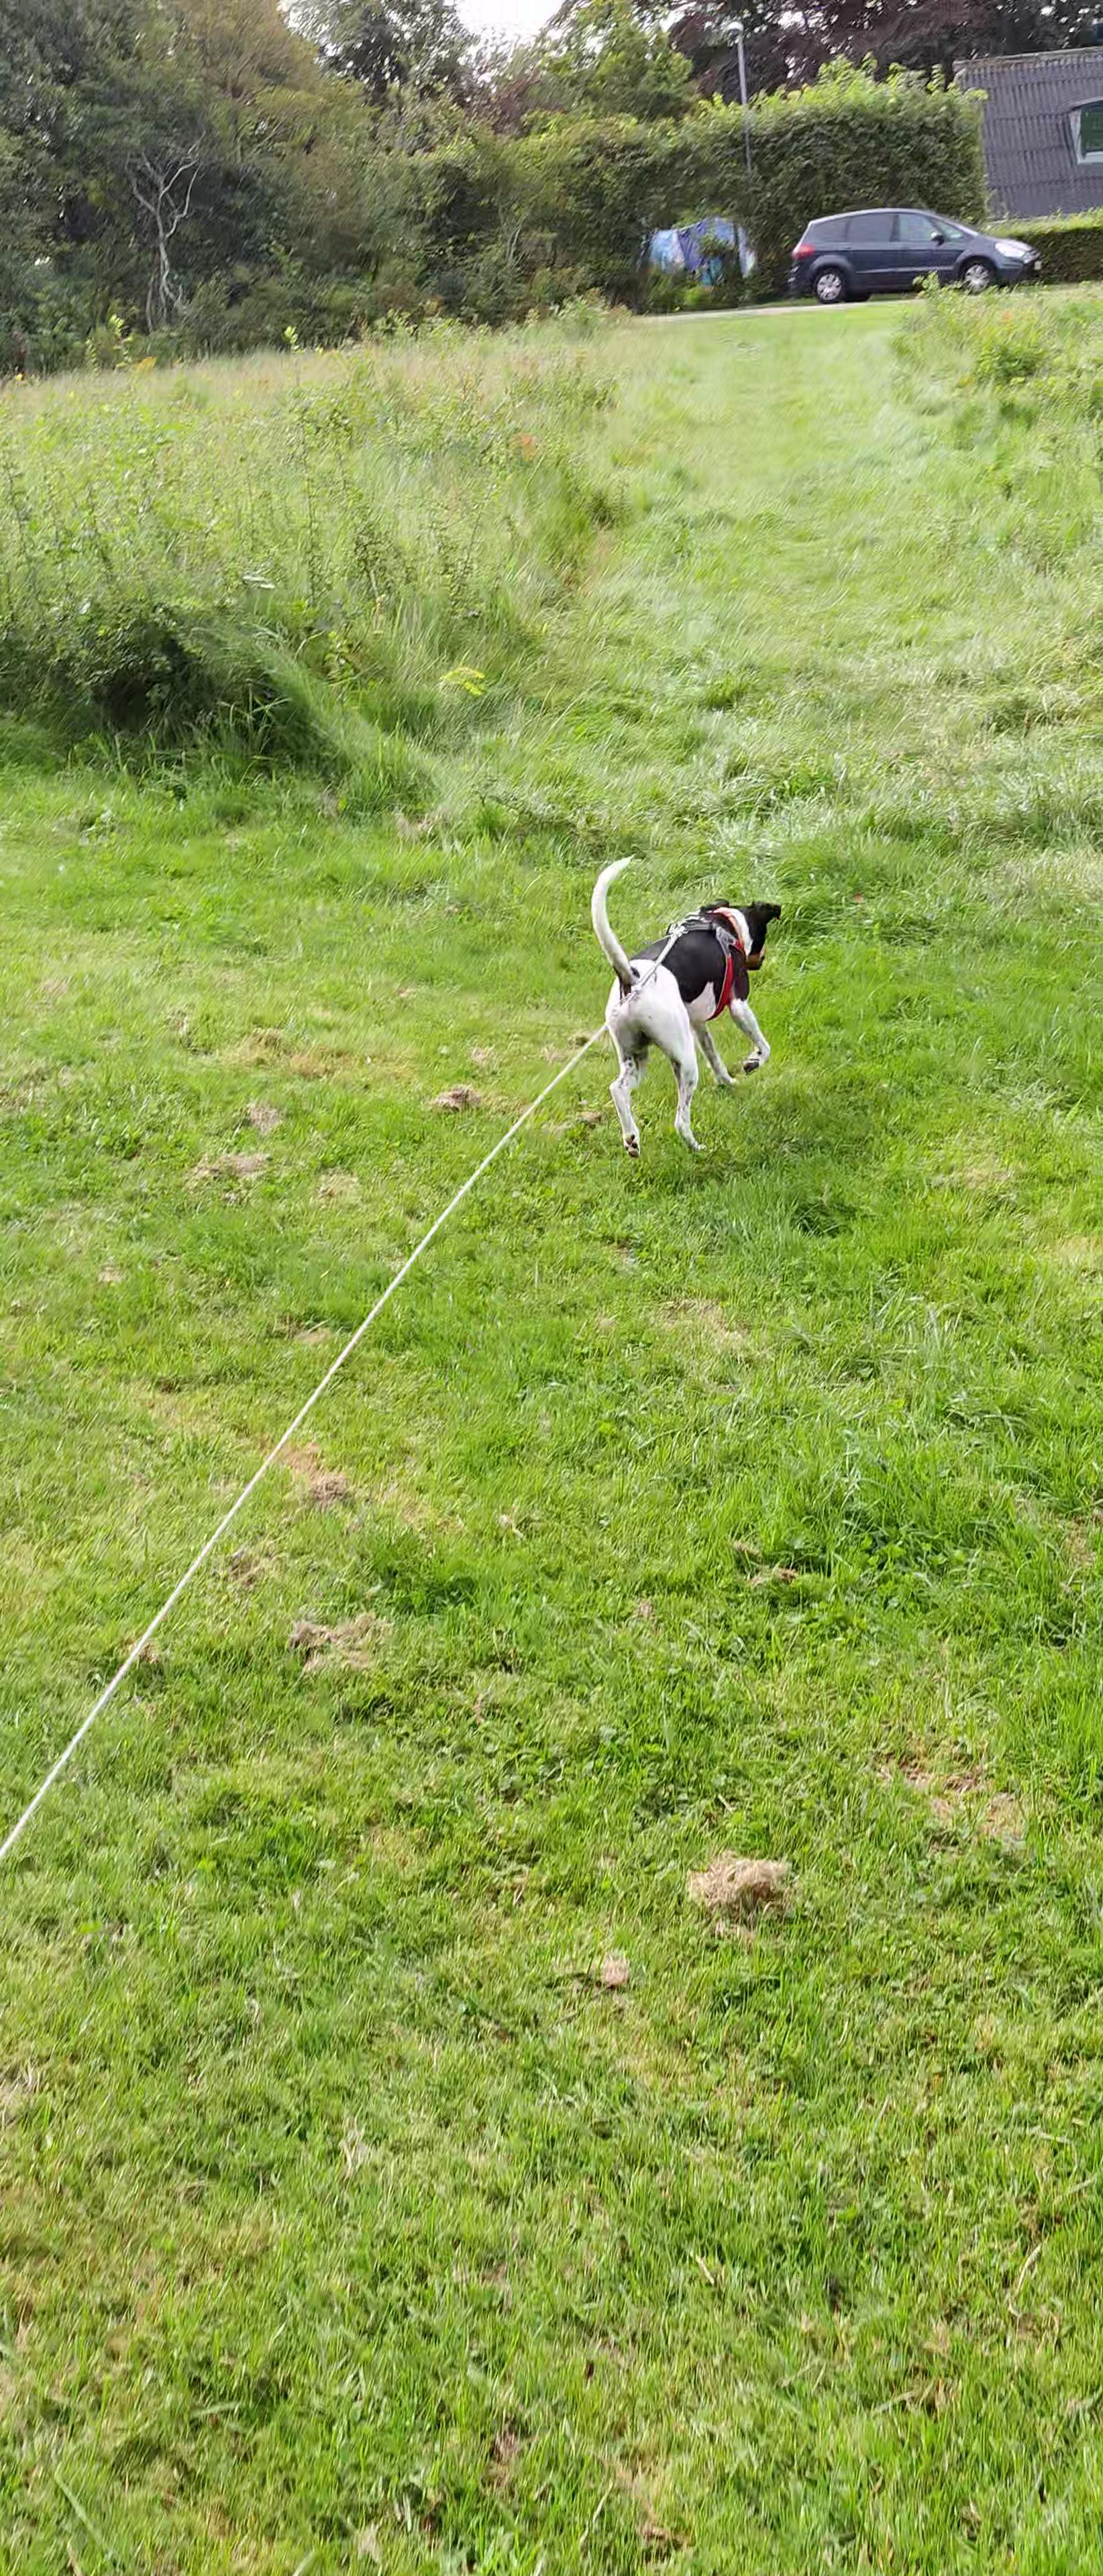Dog: (570, 848, 799, 1163)
